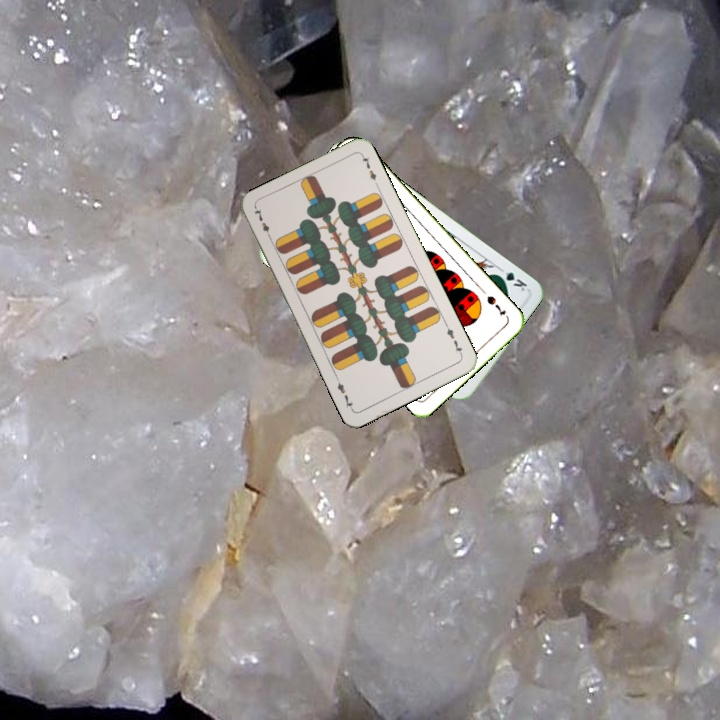E7: (250, 204, 274, 243), (442, 320, 465, 359)
GK: (492, 263, 530, 294)
S7: (483, 292, 509, 318)
